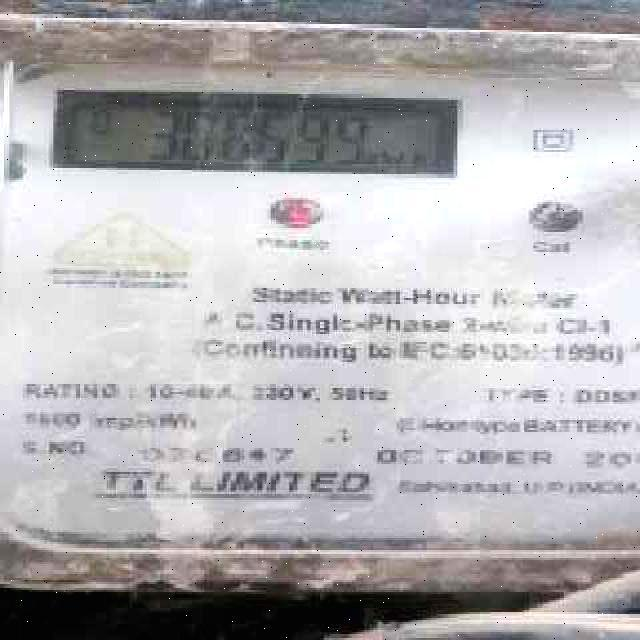LCD: (40, 75, 482, 190)
